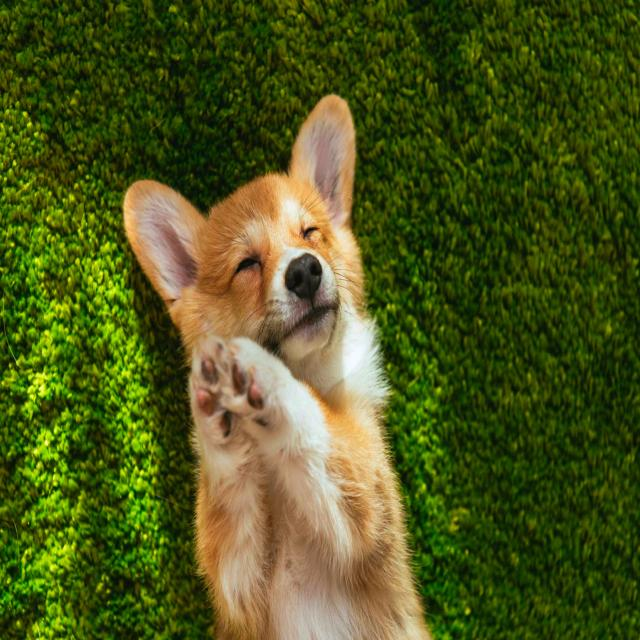dog: (124, 95, 430, 639)
